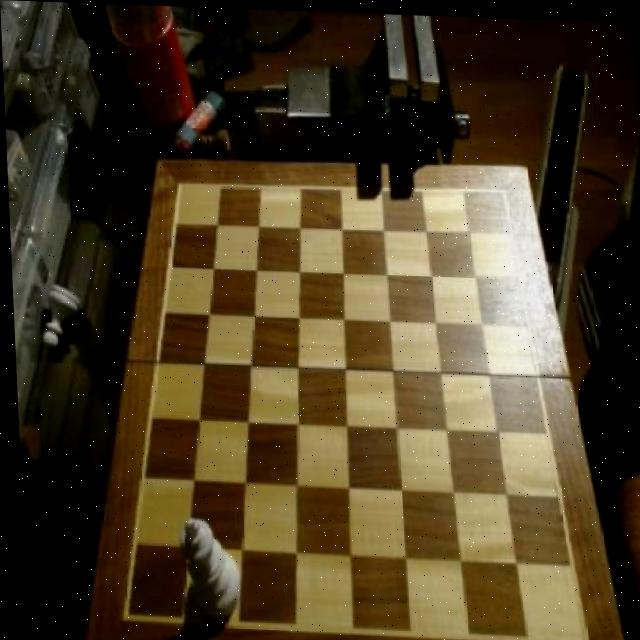white-bishop: (175, 517, 236, 613)
